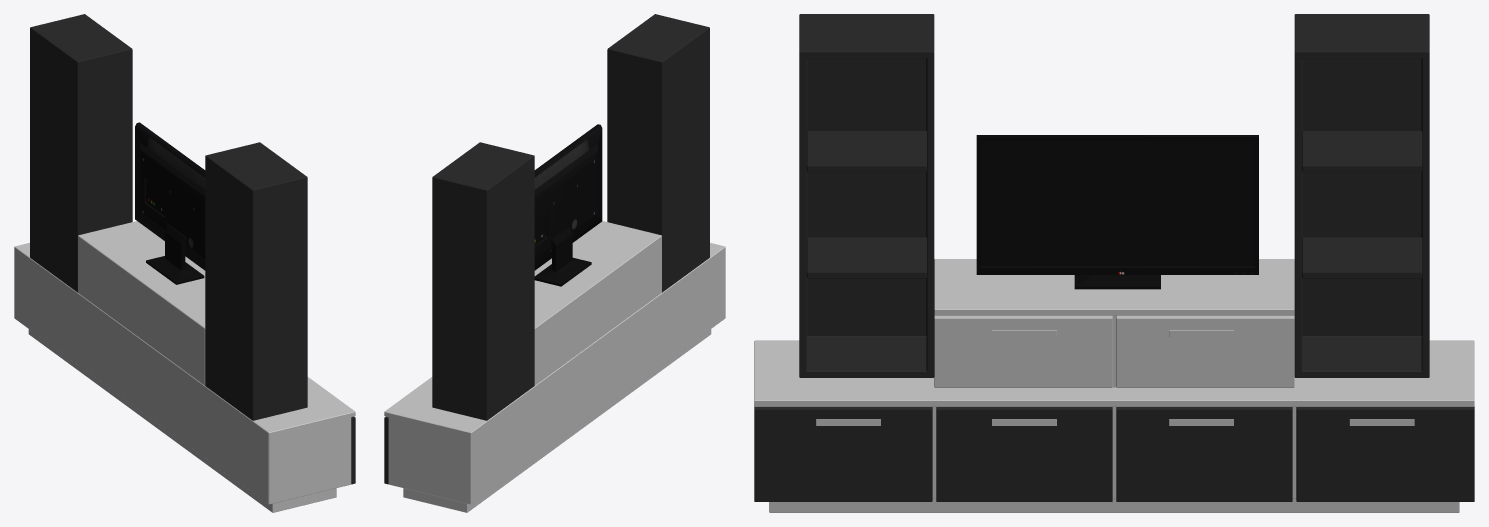
The model's file is 9lcd-cupboard.glb.
3 views of the same model, side by side, from view 1: azimuth 30°, elevation 25°; view 2: azimuth 150°, elevation 25°; view 3: azimuth 270°, elevation 25° (orthographic). The views are drawn at different scales.
Parts seen in each view (by area): view 1: 236obj01, 236obj03, 236obj05, led_tv; view 2: 236obj01, 236obj03, 236obj05, led_tv; view 3: 236obj01, 236obj03, led_tv, 236obj05, 236obj02, 236obj04.
Boxes of the visible parts, x1,y1,x2,y2 form: 236obj01: (30, 14, 307, 420); 236obj03: (14, 243, 355, 512); 236obj05: (78, 221, 205, 385); led_tv: (135, 122, 205, 284); 236obj01: (432, 14, 709, 420); 236obj03: (384, 243, 725, 512); 236obj05: (534, 221, 661, 385); led_tv: (534, 124, 602, 286); 236obj01: (799, 14, 1429, 377); 236obj03: (754, 340, 1474, 512); led_tv: (976, 135, 1258, 289); 236obj05: (934, 259, 1294, 387); 236obj02: (816, 419, 1414, 425); 236obj04: (992, 330, 1233, 336).
Bounding box in the file's own units: 0.5404 × 1.83 × 2.66.
4 materials, 1 textured.
